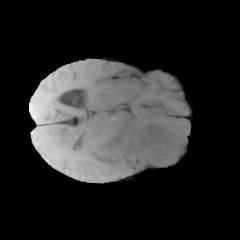glioma: (97, 107, 186, 171)
